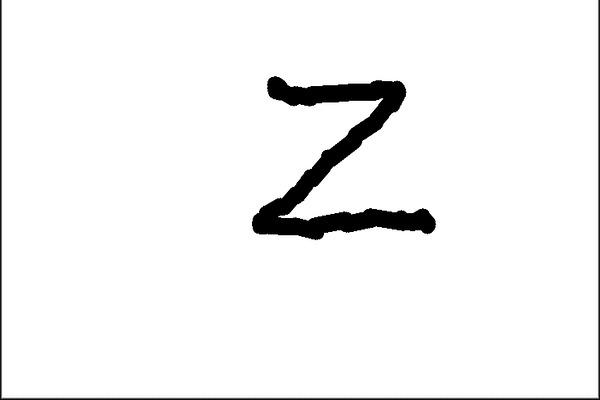Z: (238, 70, 445, 246)
